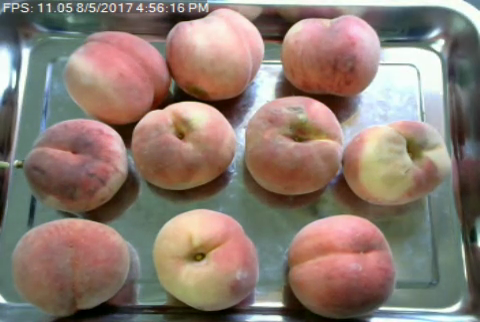Peach: (16, 216, 132, 314), (287, 214, 393, 319), (153, 209, 257, 310), (64, 29, 169, 124), (25, 118, 130, 213), (243, 95, 343, 194), (130, 99, 235, 190), (166, 6, 265, 102), (342, 120, 450, 205), (280, 15, 380, 99)
